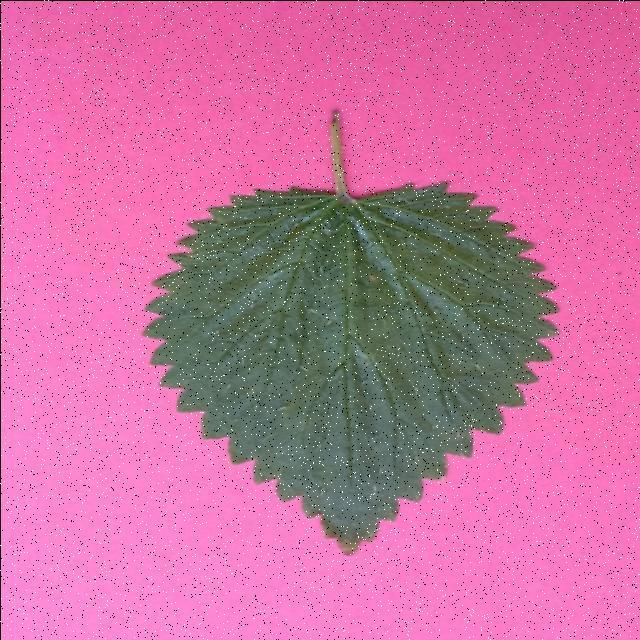foliage: (131, 108, 565, 560)
